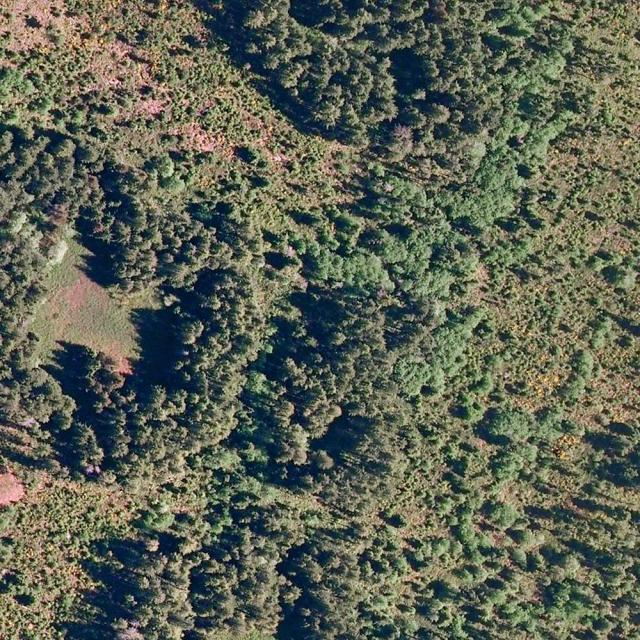dryland: (24, 264, 162, 396)
greenland: (67, 123, 534, 640), (0, 470, 129, 640)
